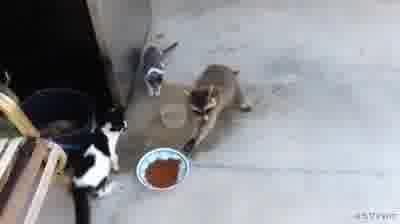raccoon: (182, 64, 252, 160)
